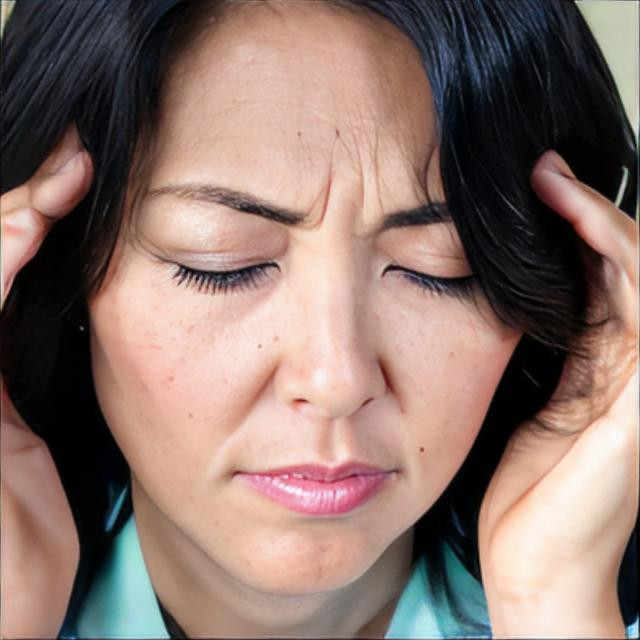sad: (90, 0, 524, 598)
